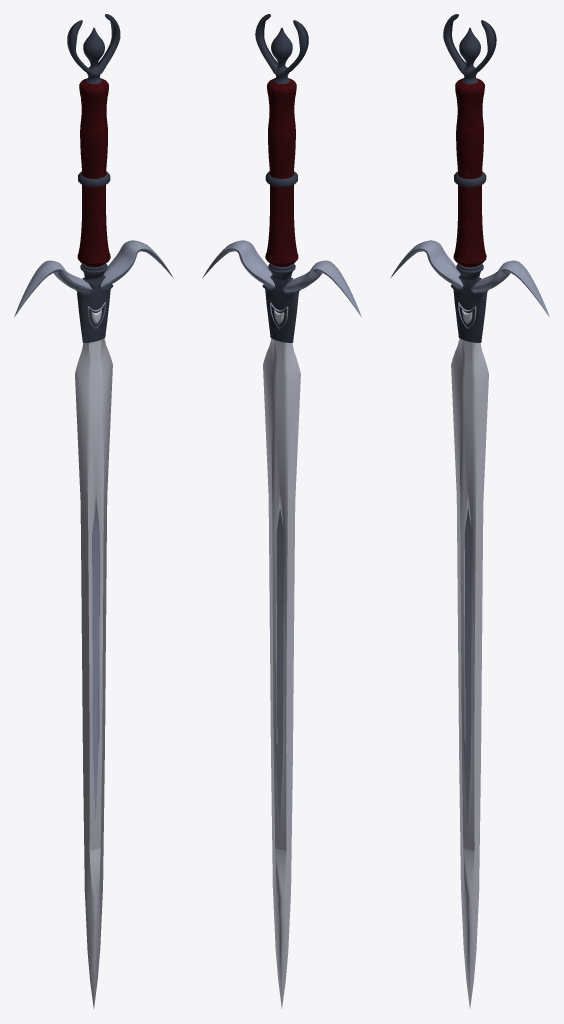
The model's file is equalizer.obj.
3 views of the same model, side by side, from view 1: azimuth 30°, elevation 25°; view 2: azimuth 150°, elevation 25°; view 3: azimuth 330°, elevation 25° (orthographic).
Parts seen in each view (by area): view 1: blade blade, handle, guard, rain_guard, blade Form55, pomel, pommel_base; view 2: blade blade, handle, guard, blade Form56, rain_guard, pomel, pommel_base; view 3: blade blade, handle, guard, blade Form55, rain_guard, pomel, pommel_base.
Part boxes in pixels (box(x1,y1,x2,y2)): blade blade: box(75, 338, 112, 1008); handle: box(77, 78, 110, 267); guard: box(14, 240, 173, 316); rain_guard: box(75, 263, 113, 342); blade Form55: box(92, 507, 99, 820); pomel: box(67, 14, 120, 75); pommel_base: box(83, 27, 104, 84); blade blade: box(263, 338, 300, 1008); handle: box(265, 78, 298, 267); guard: box(202, 240, 361, 316); blade Form56: box(276, 508, 283, 823); rain_guard: box(262, 263, 300, 342); pomel: box(255, 14, 308, 75); pommel_base: box(271, 27, 292, 83); blade blade: box(451, 338, 488, 1008); handle: box(453, 78, 486, 267); guard: box(390, 240, 549, 316); blade Form55: box(464, 507, 471, 820); rain_guard: box(450, 263, 488, 342); pomel: box(443, 14, 496, 75); pommel_base: box(459, 27, 480, 84).
Size of the model in its own units: 20.92 by 124 by 3.77.
